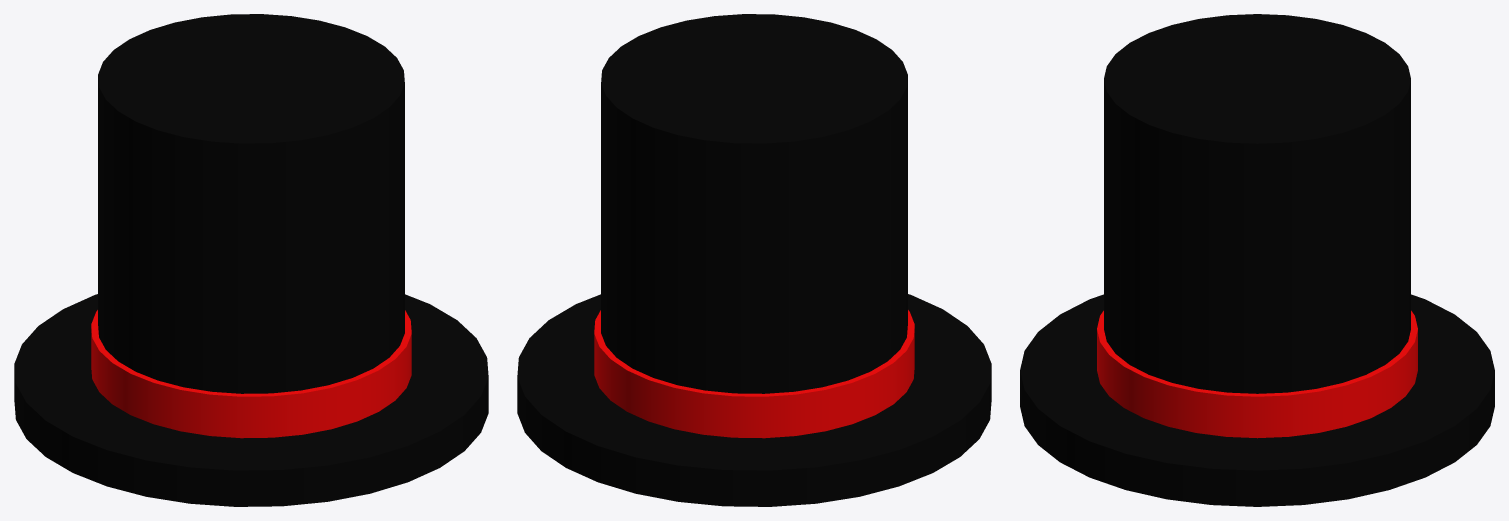
Rendered from MirrorVR Top Hat.fbx.
The picture shows the model from 3 angles, left to right: view 1: azimuth 30°, elevation 25°; view 2: azimuth 150°, elevation 25°; view 3: azimuth 270°, elevation 25°; orthographic projection.
Visible parts, largest first — view 1: Top Hat; view 2: Top Hat; view 3: Top Hat.
Part boxes in pixels (x1,y1,x2,y2): Top Hat: (14, 14, 488, 506); Top Hat: (517, 14, 991, 506); Top Hat: (1020, 14, 1494, 506).
Size of the model in its own units: 142 by 108 by 142.
